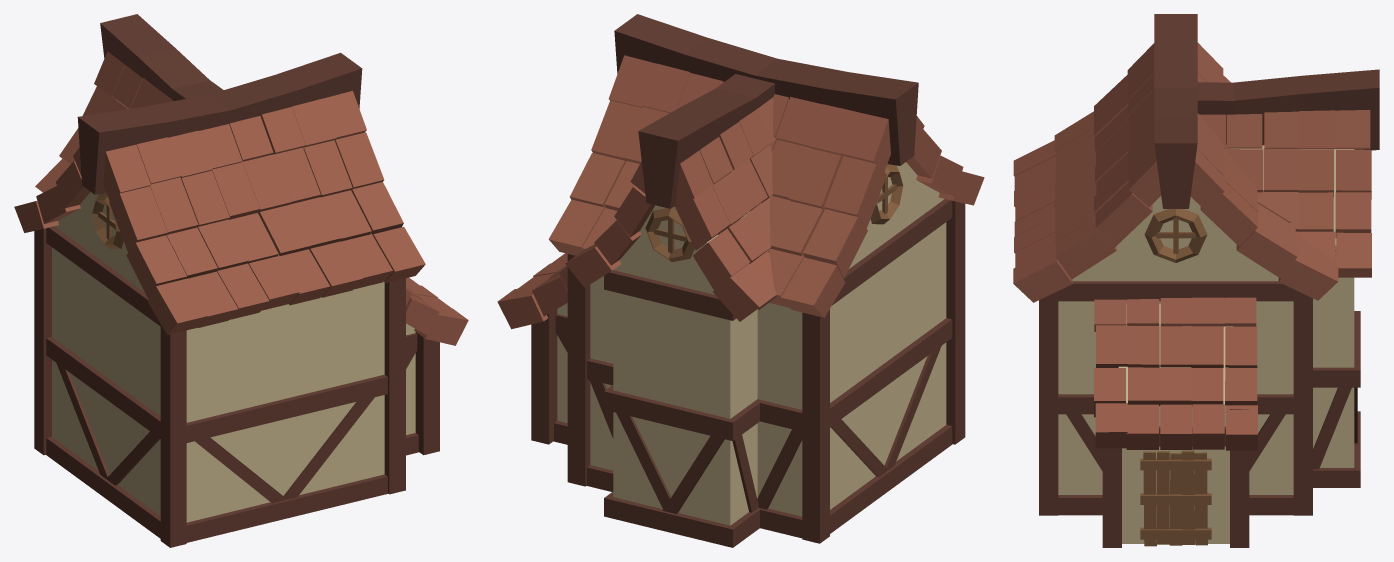
Rendered from fang01.1.fbx.
The picture shows the model from 3 angles, left to right: view 1: azimuth 30°, elevation 25°; view 2: azimuth 150°, elevation 25°; view 3: azimuth 270°, elevation 25°; orthographic projection. The views are drawn at different scales.
Parts seen in each view (by area): view 1: Cube.002, Cube.034, Cube.023, Cube.021, Cube.028, Cube.030, Cube.020, Cube.004, Cube.009, Cube.022, Cube.036, Cube.015 (+6 smaller); view 2: Cube.002, Cube.033, Cube.036, Cube.023, Cube.030, Cube.028, Cube.022, Cube.019, Cube.021, Cube.035, Cube.012, Cube.013 (+10 smaller); view 3: Cube.002, Cube.037, Cube.034, Cube.035, Cube.033, Cube.023, Cube.028, Cube.029, Cube.019, Cube.020, Cube.006, Cube.030 (+7 smaller).
Boxes of the visible parts, bbox=[...] form: Cube.002: bbox=[52, 192, 415, 522]; Cube.034: bbox=[103, 91, 425, 334]; Cube.023: bbox=[77, 52, 362, 194]; Cube.021: bbox=[160, 324, 186, 547]; Cube.028: bbox=[100, 14, 223, 100]; Cube.030: bbox=[56, 345, 417, 503]; Cube.020: bbox=[384, 278, 405, 494]; Cube.004: bbox=[186, 374, 387, 442]; Cube.009: bbox=[186, 474, 387, 542]; Cube.022: bbox=[34, 228, 51, 455]; Cube.036: bbox=[35, 51, 173, 192]; Cube.015: bbox=[415, 332, 439, 455]; Cube.002: bbox=[557, 162, 946, 525]; Cube.033: bbox=[548, 55, 890, 317]; Cube.036: bbox=[675, 97, 776, 321]; Cube.023: bbox=[614, 14, 918, 165]; Cube.030: bbox=[555, 327, 941, 514]; Cube.028: bbox=[638, 74, 775, 208]; Cube.022: bbox=[802, 309, 829, 543]; Cube.019: bbox=[567, 254, 590, 486]; Cube.021: bbox=[946, 201, 965, 444]; Cube.035: bbox=[565, 161, 654, 287]; Cube.012: bbox=[604, 385, 759, 440]; Cube.013: bbox=[604, 491, 761, 547]; Cube.002: bbox=[1058, 145, 1354, 543]; Cube.037: bbox=[1094, 297, 1257, 450]; Cube.034: bbox=[1013, 43, 1161, 302]; Cube.035: bbox=[1200, 110, 1371, 277]; Cube.033: bbox=[1190, 42, 1338, 300]; Cube.023: bbox=[1154, 14, 1197, 208]; Cube.028: bbox=[1197, 69, 1379, 150]; Cube.029: bbox=[1140, 450, 1211, 546]; Cube.019: bbox=[1293, 289, 1312, 515]; Cube.020: bbox=[1039, 291, 1058, 515]; Cube.006: bbox=[1058, 281, 1293, 301]; Cube.030: bbox=[1066, 387, 1357, 470].
Size of the model in its own units: 313 by 329 by 288.
